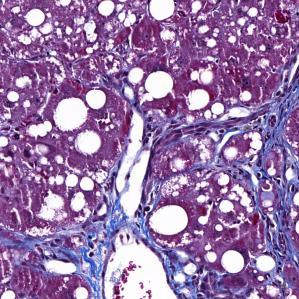fibrosis: (217, 106, 297, 184), (31, 214, 118, 267), (248, 180, 299, 255)
